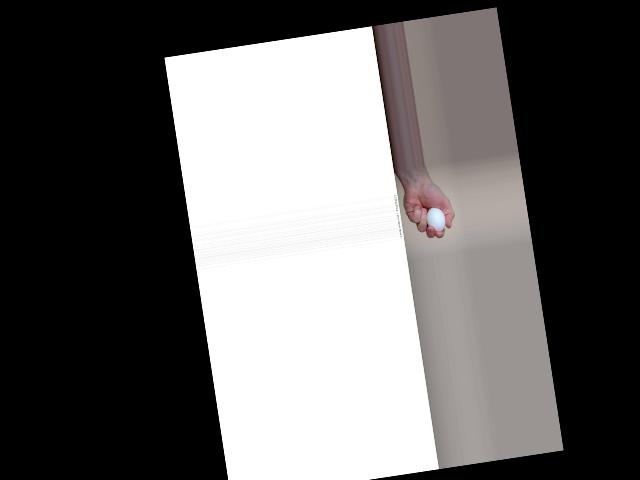egg: (425, 205, 446, 232)
